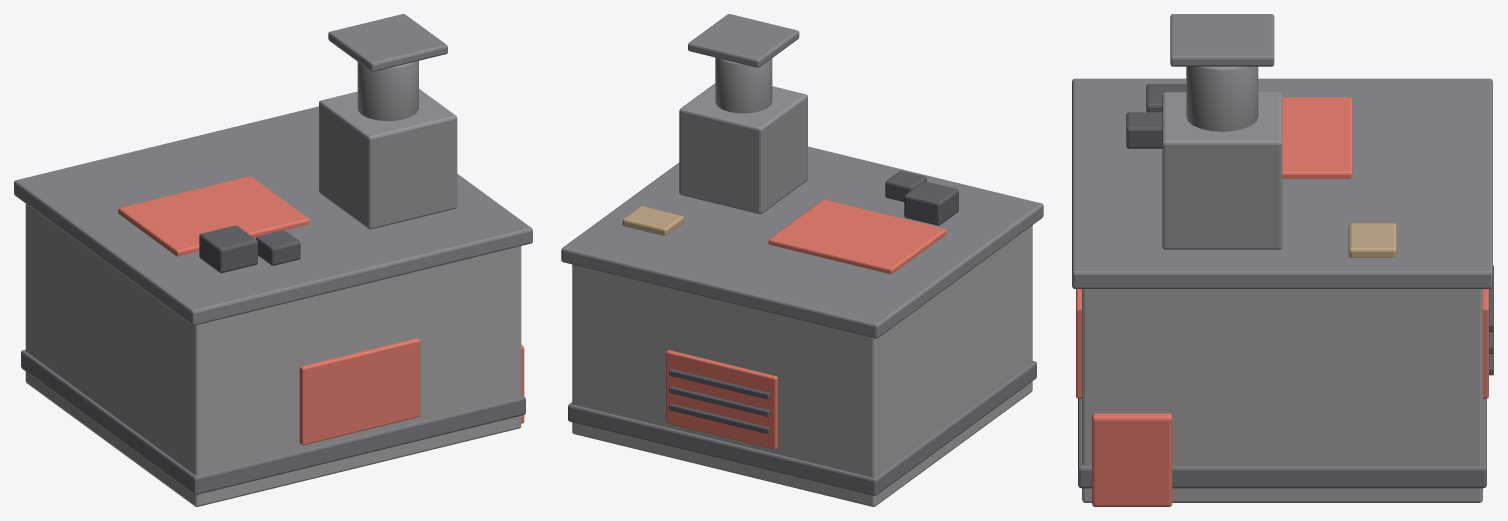
File: Плавильная печь.glb
The picture shows the model from 3 angles, left to right: view 1: azimuth 30°, elevation 25°; view 2: azimuth 150°, elevation 25°; view 3: azimuth 270°, elevation 25°; orthographic projection. The views are drawn at different scales.
Visible parts, largest first — view 1: печь; view 2: печь; view 3: печь.
Part boxes in pixels (x1,y1,x2,y2): печь: [14, 14, 532, 506]; печь: [561, 14, 1043, 506]; печь: [1072, 14, 1493, 506].
Bounding box in the file's own units: 2.3 × 2.35 × 2.1.
